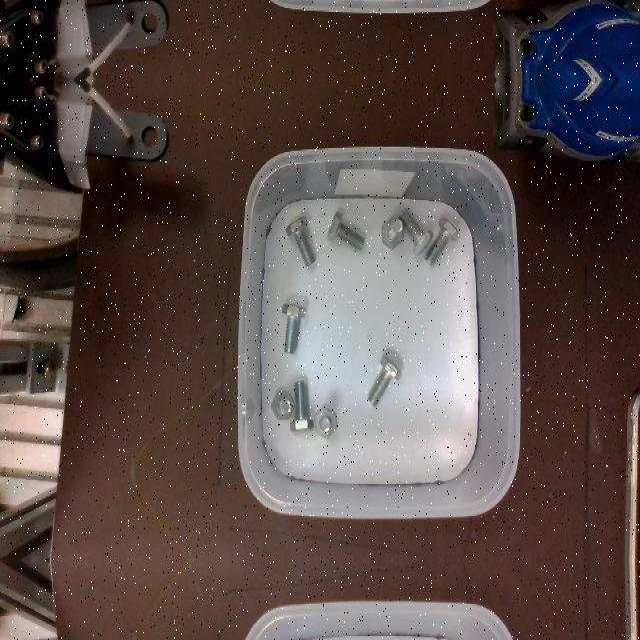screw: (424, 217, 460, 267), (367, 355, 402, 405), (397, 208, 433, 256), (285, 216, 315, 268), (326, 211, 364, 251), (281, 303, 305, 353), (289, 380, 313, 430), (381, 215, 403, 249), (314, 406, 337, 438), (270, 391, 294, 421)
